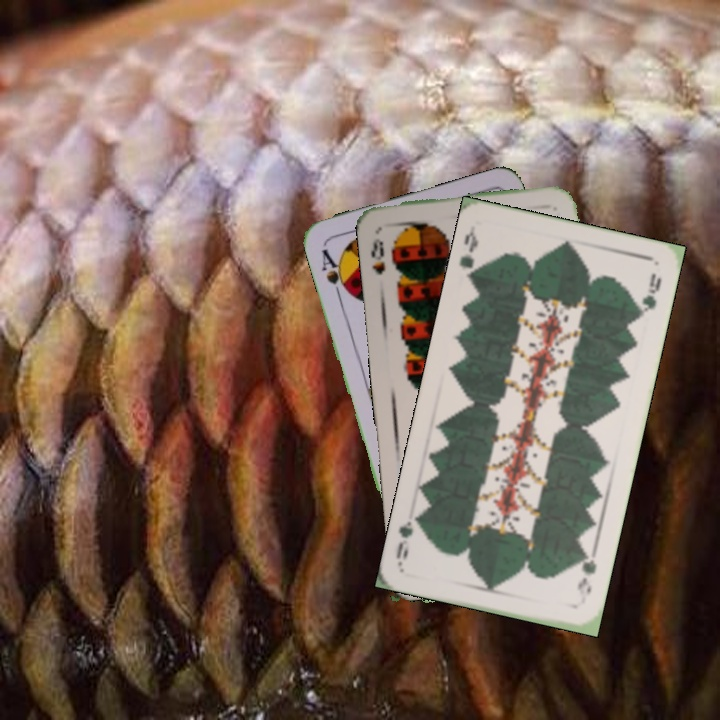G9: (455, 223, 482, 284), (573, 548, 599, 599)
S8: (366, 235, 388, 278)
SA: (317, 245, 353, 301)
